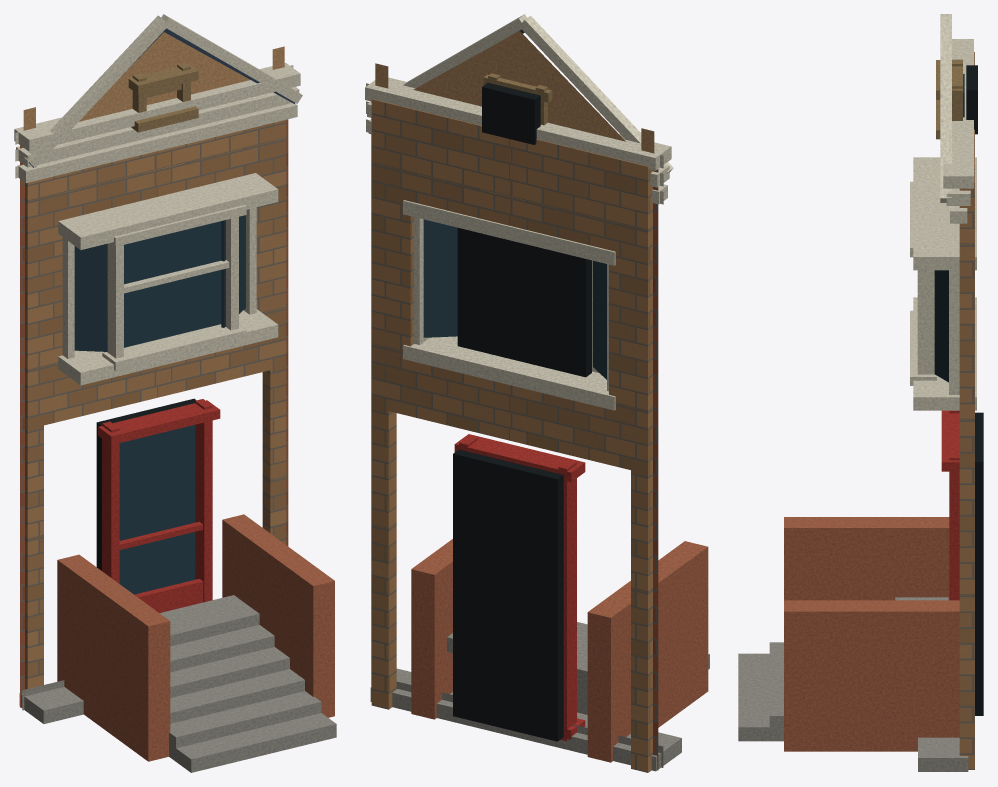
Rendered from VICT2B_lod2.glb.
3 views of the same model, side by side, from view 1: azimuth 30°, elevation 25°; view 2: azimuth 150°, elevation 25°; view 3: azimuth 270°, elevation 25° (orthographic). The views are drawn at different scales.
Visible parts, largest first — view 1: VICT2B_FRONT_LOD2; view 2: VICT2B_FRONT_LOD2; view 3: VICT2B_FRONT_LOD2.
Part boxes in pixels (x1,y1,x2,y2): VICT2B_FRONT_LOD2: (14,14,336,772); VICT2B_FRONT_LOD2: (365,14,709,772); VICT2B_FRONT_LOD2: (738,14,983,771).
Size of the model in its own units: 3.44 by 7.86 by 2.54.
12 materials, 10 textured.
